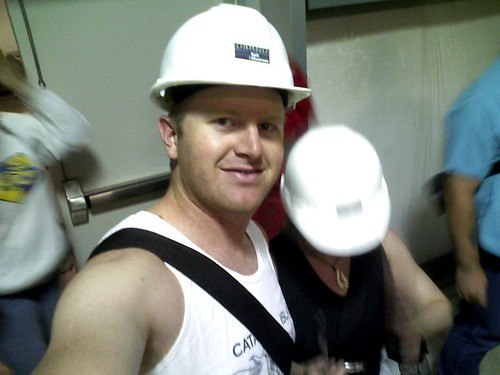person hardhat: (40, 8, 312, 371), (273, 125, 445, 375)
